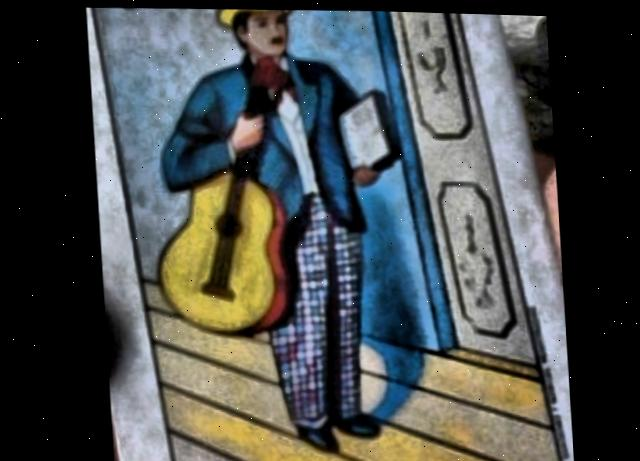El Musico: (92, 6, 553, 461)
